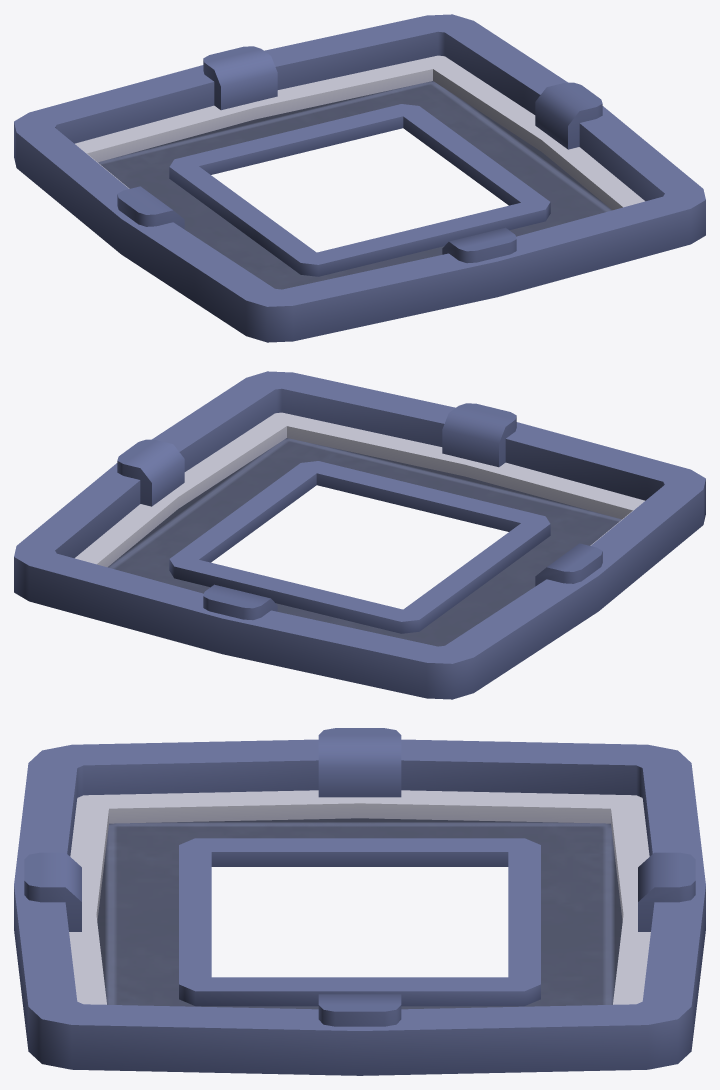
The model's file is template-floor-hole.glb.
The picture shows the model from 3 angles, top to bottom: view 1: azimuth 30°, elevation 25°; view 2: azimuth 150°, elevation 25°; view 3: azimuth 270°, elevation 25°; orthographic projection. The views are drawn at different scales.
Visible parts, largest first — view 1: template-floor-layer-hole; view 2: template-floor-layer-hole; view 3: template-floor-layer-hole.
Boxes of the visible parts, x1,y1,x2,y2 form: template-floor-layer-hole: [14, 14, 705, 342]; template-floor-layer-hole: [14, 371, 705, 699]; template-floor-layer-hole: [14, 728, 705, 1075].
Bounding box in the file's own units: 4.2 × 0.4 × 4.2.
Materials: 1 (1 with a texture image).
